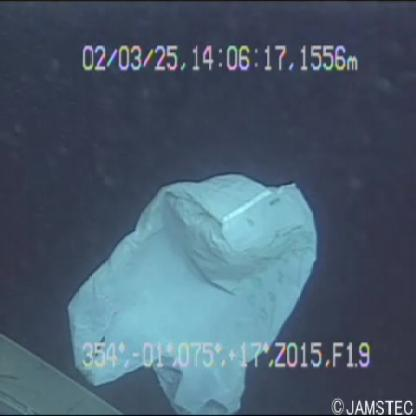Rov: (1, 321, 132, 416)
Rác: (57, 149, 325, 416)
